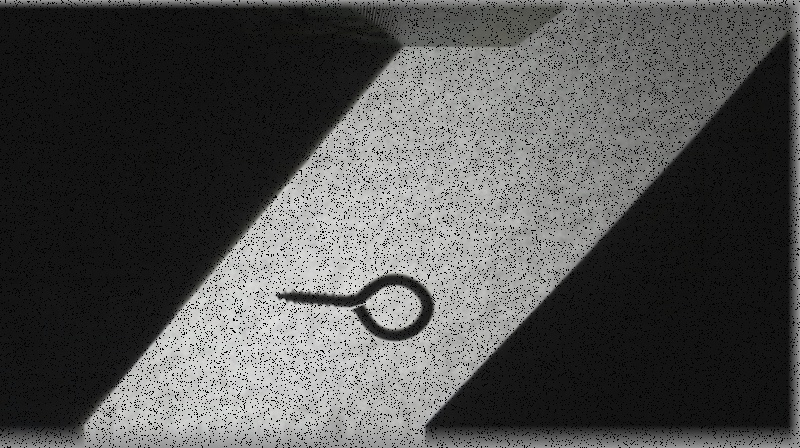O001: (270, 271, 437, 344)
